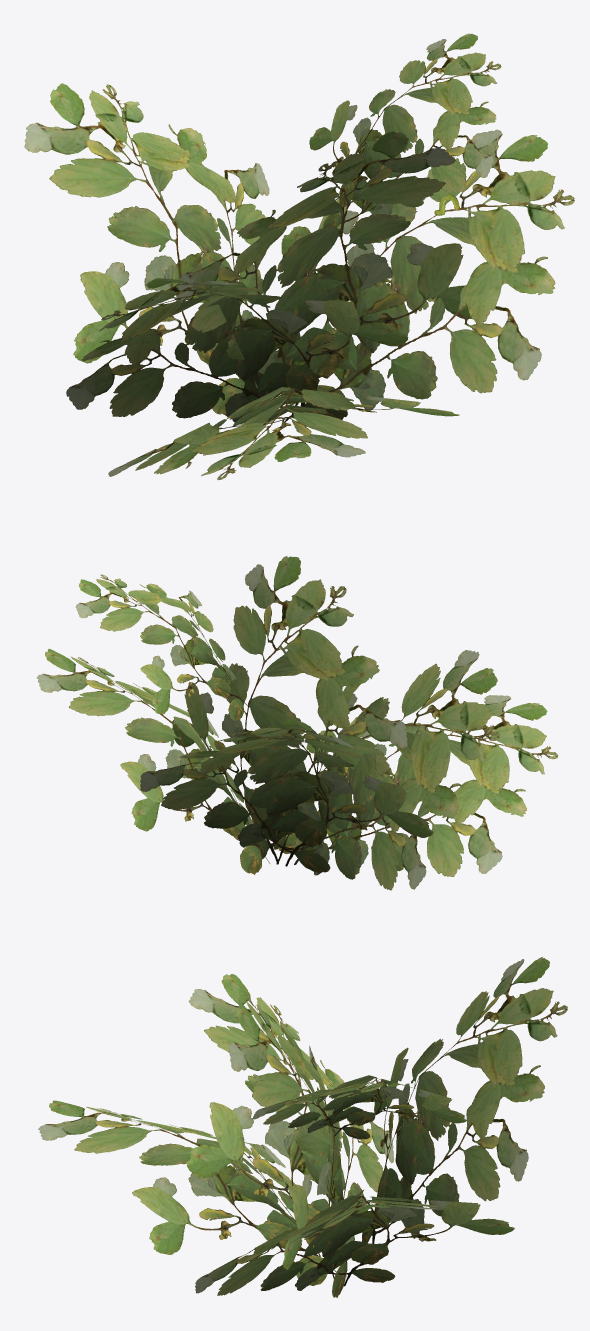
The model's file is bush06_lod01.FBX.
3 views of the same model, one above another, from view 1: azimuth 30°, elevation 25°; view 2: azimuth 150°, elevation 25°; view 3: azimuth 270°, elevation 25° (orthographic). The views are drawn at different scales.
Visible parts, largest first — view 1: bush06_lod01; view 2: bush06_lod01; view 3: bush06_lod01.
Boxes of the visible parts, box(x1,y1,x2,y2) form: bush06_lod01: box(24, 33, 574, 480); bush06_lod01: box(36, 556, 558, 890); bush06_lod01: box(38, 957, 567, 1297).
Bounding box in the file's own units: 99.94 × 65.15 × 93.63.
1 material, 1 textured.
